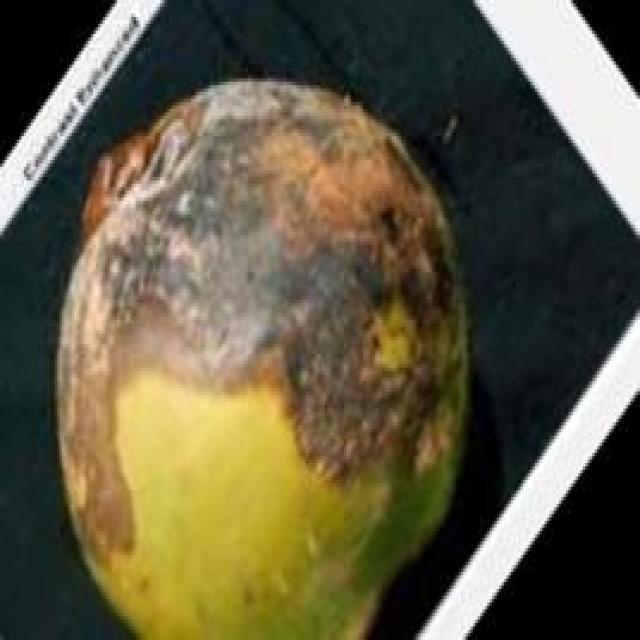damaged: (50, 78, 473, 637)
